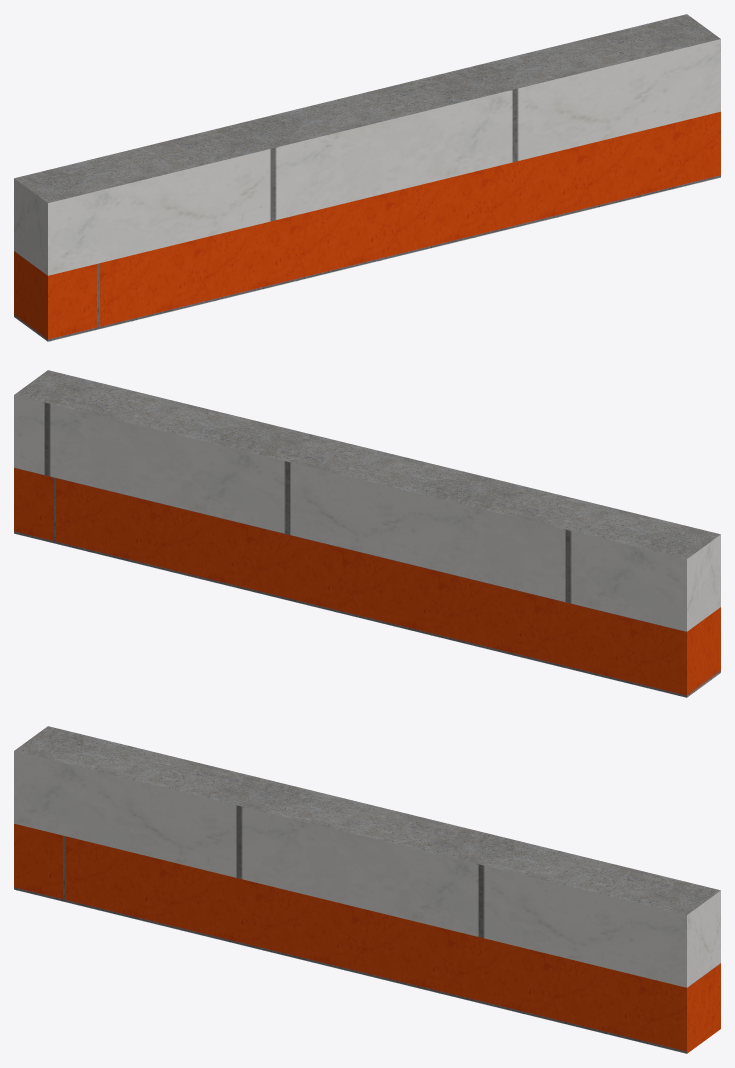
Rendered from WallUpperPart_4.fbx.
3 renders of one model, top to bottom at view 1: azimuth 30°, elevation 25°; view 2: azimuth 150°, elevation 25°; view 3: azimuth 330°, elevation 25°, orthographic.
Visible parts, largest first — view 1: WallUpperPart_4; view 2: WallUpperPart_4; view 3: WallUpperPart_4.
Boxes of the visible parts, <box> form: WallUpperPart_4: <box>14,14,720,341</box>; WallUpperPart_4: <box>14,370,720,697</box>; WallUpperPart_4: <box>14,726,720,1053</box>.
Bounding box in the file's own units: 2 × 0.3937 × 0.175.
